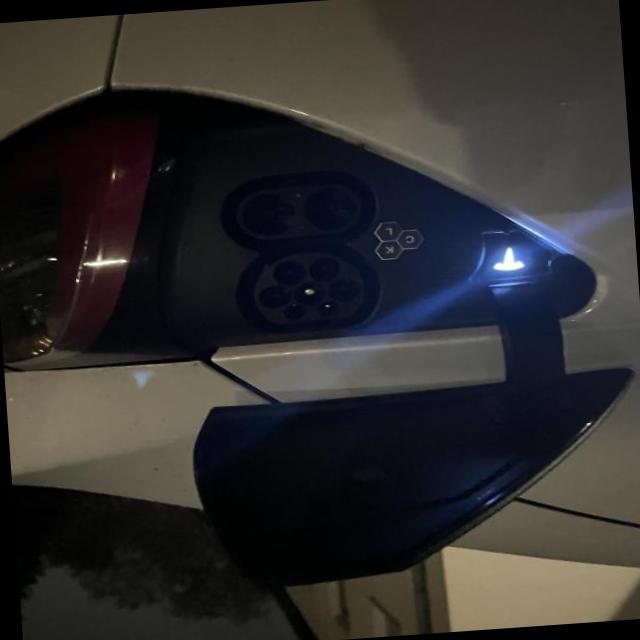inlet: (254, 251, 363, 323)
inlet-above-left: (317, 301, 338, 316)
inlet-above-right: (282, 303, 303, 318)
inlet-below-left: (308, 256, 339, 282)
inlet-below-right: (272, 260, 304, 285)
inlet-center: (292, 282, 324, 303)
inlet-center-left: (327, 278, 357, 301)
inlet-center-right: (257, 284, 290, 307)
